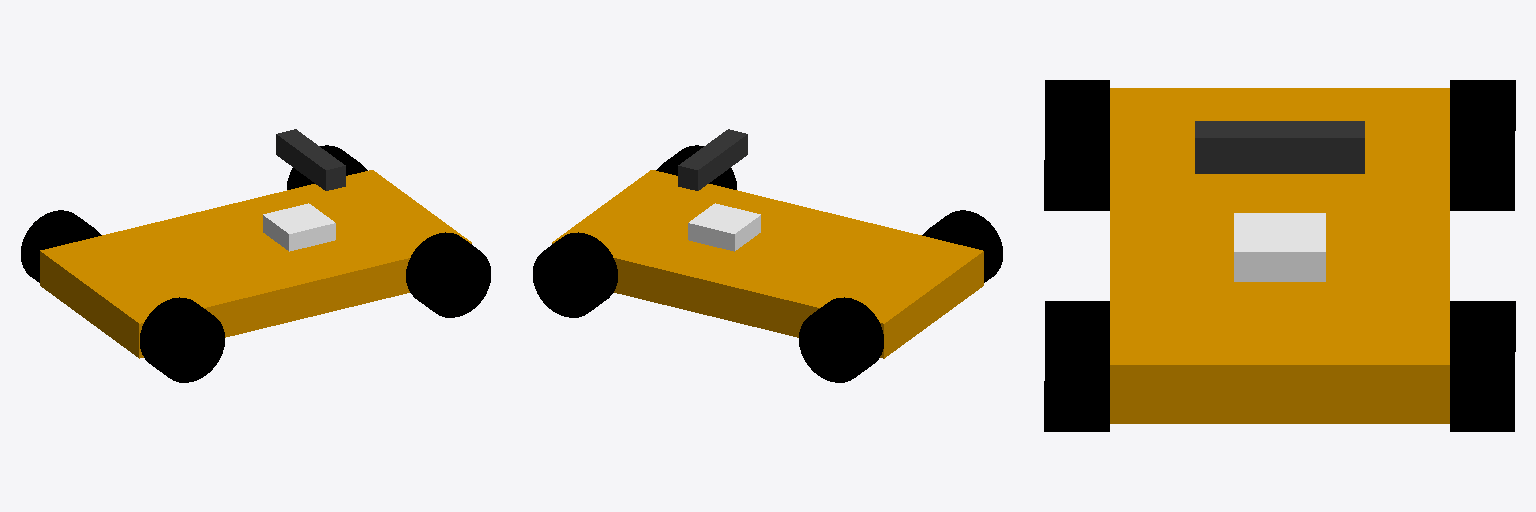
robot.urdf — my_robot:
<?xml version="1.0" encoding="UTF-8"?>
<robot name="my_robot">

    <material name="black">
        <color rgba="0.0 0.0 0.0 1"/>
      </material>

    <material name="white">
        <color rgba="1.0 1.0 1.0 1"/>
      </material>

    <material name="grey">
        <color rgba="0.25 0.25 0.25 1"/>
      </material>

    <link name="base_link">
        <inertial>
            <origin xyz="0 0 0.05" rpy="0 0 0"/>
            <mass value="0.18" />
            <inertia ixx="0.0002835" ixy="0.0" ixz="0.0" iyy="0.0002835" iyz="0.0" izz="0.000324"/>
        </inertial>

        <collision>
            <origin xyz="0 0 0" rpy="0 0 0"/>
            <geometry>
                <cylinder radius="0.06" length="0.09"/>
            </geometry>
        </collision>

        <visual>
        <origin rpy="0 0 1.57" xyz="0 0 0.05"/>
        <geometry>
            <box size="0.26 0.5 0.05"/>
        </geometry>
        </visual>
    </link>

    <link name="lidar_link">
		<visual>
            <origin rpy="0 0 1.57" xyz="0.065 0.0 0.05"/>
            <geometry>
                <box size="0.07 0.07 0.1"/>
            </geometry>
            <material name="white"/>
        </visual>
	</link>

    <link name="camera_link">
		<visual>
            <origin rpy="0 0 1.57" xyz="0.0825 0.0 0.18"/>
            <geometry>
                <box size="0.13 0.03 0.03"/>
            </geometry>
            <material name="grey"/>
        </visual>
	</link>

    <link name="wheel_FL">
        <visual>
            <origin rpy="1.57 0.0 0.0" xyz="0.20 0.155 0.05"/>
            <geometry>
                <cylinder radius="0.05" length="0.05"/>
            </geometry>
            <material name="black"/>
        </visual>
    </link>

    <link name="wheel_FR">
        <visual>
            <origin rpy="1.57 0.0 0.0" xyz="0.20 -0.155 0.05"/>
            <geometry>
                <cylinder radius="0.05" length="0.05"/>
            </geometry>
            <material name="black"/>
        </visual>
    </link>

    <link name="wheel_RL">
        <visual>
            <origin rpy="1.57 0.0 0.0" xyz="-0.20 0.155 0.05"/>
            <geometry>
                <cylinder radius="0.05" length="0.05"/>
            </geometry>
            <material name="black"/>
        </visual>
    </link>

    <link name="wheel_RR">
        <visual>
            <origin rpy="1.57 0.0 0.0" xyz="-0.20 -0.155 0.05"/>
            <geometry>
                <cylinder radius="0.05" length="0.05"/>
            </geometry>
            <material name="black"/>
        </visual>
    </link>

    <joint name="lidar_joint" type="fixed">
        <parent link="base_link"/>
        <child link="lidar_link"/>
        <origin xyz="0.0 0.0 0.0" rpy="0 0 0"/>
    </joint>

    <joint name="camera_joint" type="fixed">
        <parent link="lidar_link"/>
        <child link="camera_link"/>
        <origin xyz="0.0 0.0 0.0" rpy="0 0 0"/>
    </joint>

    <joint name="wheel_FL_joint" type="revolute">
        <parent link="base_link"/>
        <child link="wheel_FL"/>
        <origin xyz="0.0 0.0 0.0" rpy="0 0 0"/>
        <limit lower="-0.2" upper="0.2" effort="0.1" velocity="0.005"/>
        <axis xyz="1 0 0"/>
    </joint>

    <joint name="wheel_FR_joint" type="revolute">
        <parent link="base_link"/>
        <child link="wheel_FR"/>
        <origin xyz="0.0 0.0 0.0" rpy="0 0 0"/>
        <limit lower="-0.2" upper="0.2" effort="0.1" velocity="0.005"/>
        <axis xyz="1 0 0"/>
    </joint>

    <joint name="wheel_RL_joint" type="revolute">
        <parent link="base_link"/>
        <child link="wheel_RL"/>
        <origin xyz="0.0 0.0 0.0" rpy="0 0 0"/>
        <limit lower="-0.2" upper="0.2" effort="0.1" velocity="0.005"/>
        <axis xyz="1 0 0"/>
    </joint>

    <joint name="wheel_RR_joint" type="revolute">
        <parent link="base_link"/>
        <child link="wheel_RR"/>
        <origin xyz="0.0 0.0 0.0" rpy="0 0 0"/>
        <limit lower="-0.2" upper="0.2" effort="0.1" velocity="0.005"/>
        <axis xyz="1 0 0"/>
    </joint>

  <gazebo reference="base_link">
      <kp>100000.0</kp>
      <kd>100000.0</kd>
      <mu1>10.0</mu1>
      <mu2>10.0</mu2>
      <material>Gazebo/Grey</material>
  </gazebo>

    <!-- camera -->
  <gazebo reference="camera_link">
    <sensor type="camera" name="camera1">
      <update_rate>15.0</update_rate>
      <camera name="head">

          <pose>0 0 0 0 0 0</pose>

        <horizontal_fov>1.3962634</horizontal_fov>
        <image>
          <width>400</width>
          <height>400</height>
          <format>R8G8B8</format>
        </image>
        <clip>
          <near>0.01</near>
          <far>100</far>
        </clip>
        <noise>
          <type>gaussian</type>
          <stddev>0.007</stddev>
        </noise>
      </camera>
      <plugin name="camera_controller" filename="libgazebo_ros_camera.so">
        <alwaysOn>true</alwaysOn>
        <updateRate>0.0</updateRate>
        <cameraName>my_robot/camera1</cameraName>
        <imageTopicName>image_raw</imageTopicName>
        <cameraInfoTopicName>camera_info</cameraInfoTopicName>
        <frameName>camera_link</frameName>
        <hackBaseline>0.07</hackBaseline>
        <distortionK1>0.0</distortionK1>
        <distortionK2>0.0</distortionK2>
        <distortionK3>0.0</distortionK3>
        <distortionT1>0.0</distortionT1>
        <distortionT2>0.0</distortionT2>
      </plugin>
    </sensor>
  </gazebo>

  <gazebo reference="lidar_link">
      <material value="Gazebo/Blue" />
      <sensor type="gpu_ray" name="head_hokuyo_sensor">
        <always_on>true</always_on>
        <update_rate>30</update_rate>
        <pose>0 0 0 0 0 0</pose>
        <visualize>true</visualize>
        <ray>
          <scan>
            <horizontal>
              <samples>811</samples>
              <resolution>1</resolution>
              <min_angle>-2.35</min_angle>
              <max_angle>2.35</max_angle>
            </horizontal>
          </scan>
          <range>
            <min>0.02</min>
            <max>30.0</max>
            <resolution>0.01</resolution>
          </range>
        </ray>
      <plugin name="gazebo_ros_head_hokuyo_controller" filename="libgazebo_ros_gpu_laser.so">
        <topicName>/scan</topicName>
        <frameName>lidar_link</frameName>
      </plugin>
      </sensor>
    </gazebo>
</robot>

--- What the picture shows (computed from the rendered views, not written in the file) ---
3 views of the same robot in one strip: view 1: azimuth 30°, elevation 25°; view 2: azimuth 150°, elevation 25°; view 3: azimuth 270°, elevation 25° (orthographic).
Model my_robot with 7 links and 6 joints (4 revolute, 2 fixed), rooted at base_link, posed every joint at zero.
Links seen in each view (by area): view 1: base_link, wheel_RR, wheel_FR, lidar_link, wheel_RL, camera_link, wheel_FL; view 2: base_link, wheel_RL, wheel_FL, lidar_link, wheel_RR, camera_link, wheel_FR; view 3: base_link, camera_link, wheel_FL, wheel_FR, wheel_RL, wheel_RR, lidar_link.
Link boxes in pixels (bbox=[...]): base_link: bbox=[40, 170, 471, 358]; wheel_RR: bbox=[140, 297, 224, 382]; wheel_FR: bbox=[406, 232, 490, 317]; lidar_link: bbox=[263, 203, 335, 251]; wheel_RL: bbox=[21, 210, 101, 282]; camera_link: bbox=[276, 129, 345, 190]; wheel_FL: bbox=[287, 145, 367, 189]; base_link: bbox=[552, 170, 983, 358]; wheel_RL: bbox=[799, 297, 883, 382]; wheel_FL: bbox=[533, 232, 617, 317]; lidar_link: bbox=[688, 203, 760, 251]; wheel_RR: bbox=[922, 210, 1002, 282]; camera_link: bbox=[678, 129, 747, 190]; wheel_FR: bbox=[656, 145, 736, 189]; base_link: bbox=[1110, 88, 1449, 423]; camera_link: bbox=[1195, 121, 1364, 173]; wheel_FL: bbox=[1450, 301, 1515, 431]; wheel_FR: bbox=[1044, 301, 1109, 431]; wheel_RL: bbox=[1450, 80, 1515, 210]; wheel_RR: bbox=[1044, 80, 1109, 210]; lidar_link: bbox=[1234, 213, 1325, 281].
Bounding box of the posed robot: 0.5002 × 0.3601 × 0.195 m (x, y, z).
Geometry: primitives only (box / cylinder / sphere), no mesh files.